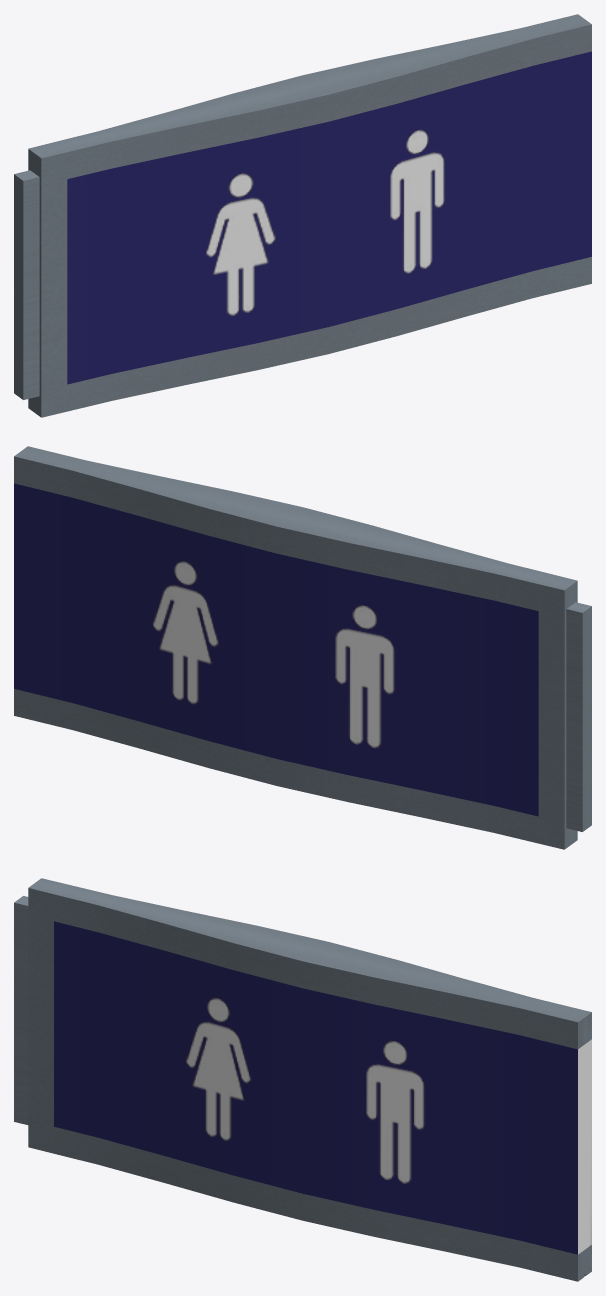
File: 화장실표지.fbx
The picture shows the model from 3 angles, top to bottom: view 1: azimuth 30°, elevation 25°; view 2: azimuth 150°, elevation 25°; view 3: azimuth 330°, elevation 25°; orthographic projection.
Parts seen in each view (by area): view 1: Cube.001; view 2: Cube.001; view 3: Cube.001.
Part boxes in pixels (<box>): Cube.001: <box>14,14,591,417</box>; Cube.001: <box>14,446,591,849</box>; Cube.001: <box>14,878,591,1281</box>.
Bounding box in the file's own units: 75.42 × 33.01 × 6.1.
